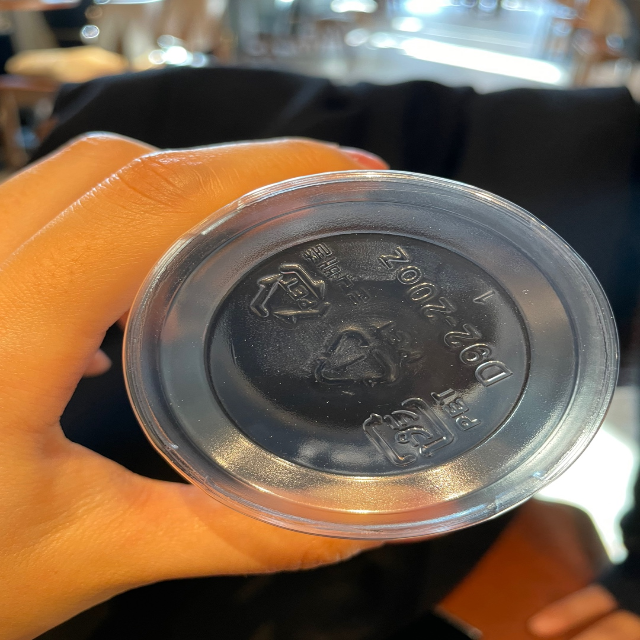pet: (243, 236, 370, 323), (353, 387, 483, 464), (308, 320, 426, 392)
